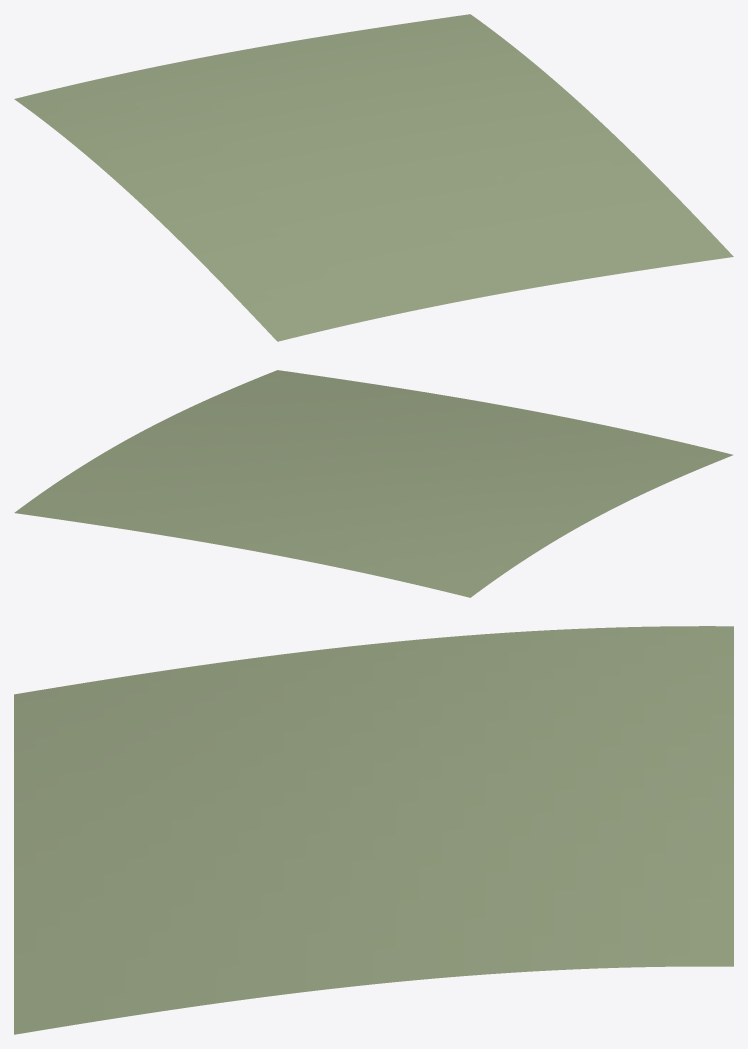
The model's file is valley-11-15.glb.
3 renders of one model, top to bottom at view 1: azimuth 30°, elevation 25°; view 2: azimuth 150°, elevation 25°; view 3: azimuth 270°, elevation 25°, orthographic. The views are drawn at different scales.
Visible parts, largest first — view 1: valley-11-15; view 2: valley-11-15; view 3: valley-11-15.
Boxes of the visible parts, <box> form: valley-11-15: <box>14,14,733,341</box>; valley-11-15: <box>14,370,732,597</box>; valley-11-15: <box>14,626,733,1034</box>.
Size of the model in its own units: 256 by 41 by 256.
